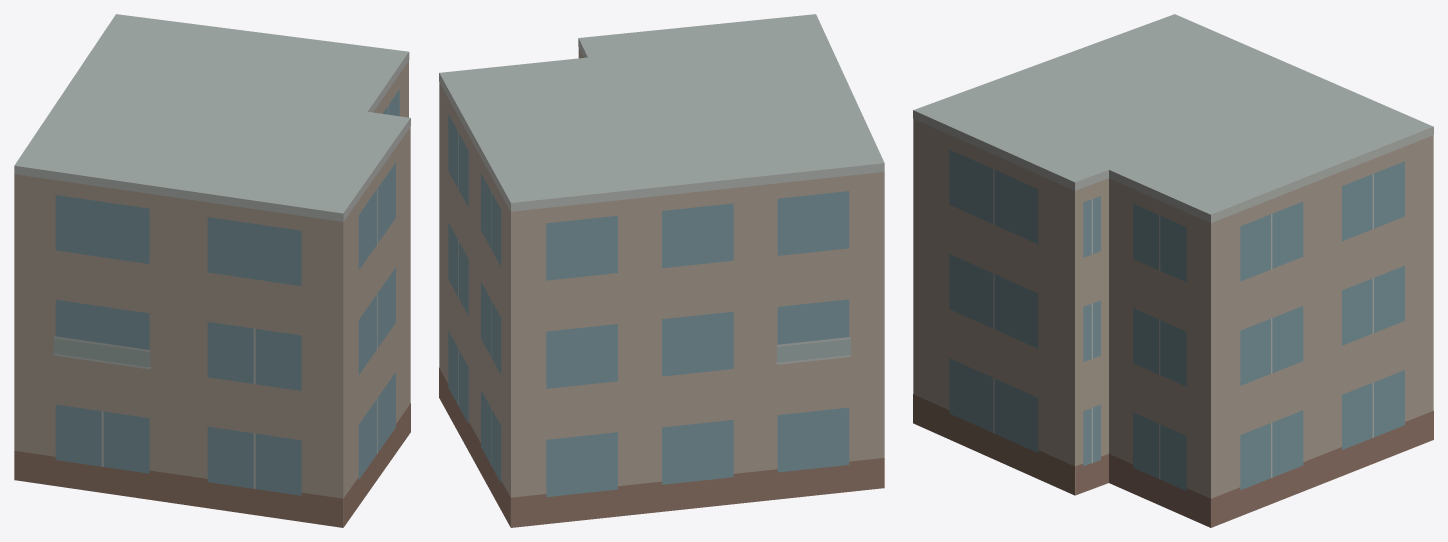
File: survey-upis-32512941.glb
3 views of the same model, side by side, from view 1: azimuth 30°, elevation 25°; view 2: azimuth 150°, elevation 25°; view 3: azimuth 270°, elevation 25° (orthographic). The views are drawn at different scales.
Visible parts, largest first — view 1: survey-upis-32512941.tmp; view 2: survey-upis-32512941.tmp; view 3: survey-upis-32512941.tmp.
Boxes of the visible parts, box(x1,y1,x2,y2) form: survey-upis-32512941.tmp: box(14, 14, 410, 527); survey-upis-32512941.tmp: box(439, 14, 884, 527); survey-upis-32512941.tmp: box(913, 14, 1433, 527).
Bounding box in the file's own units: 12.52 × 9.1 × 13.72.
